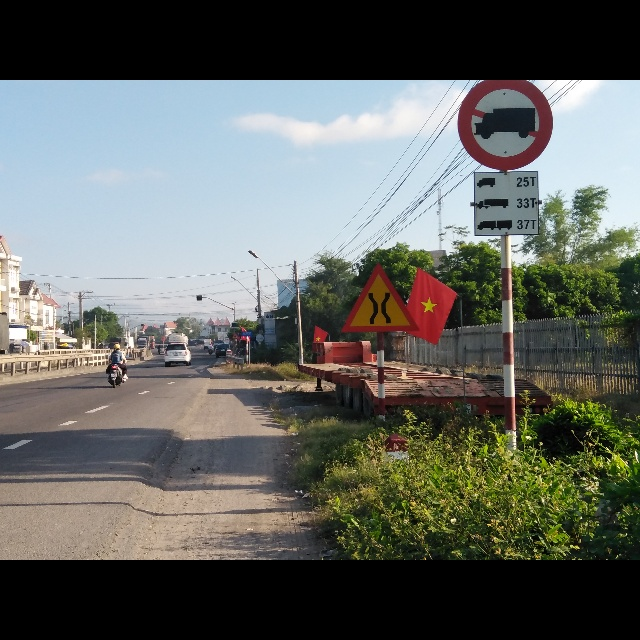Cấm xe tải: (459, 81, 555, 174)
Cầu hẹp: (341, 262, 418, 334)
